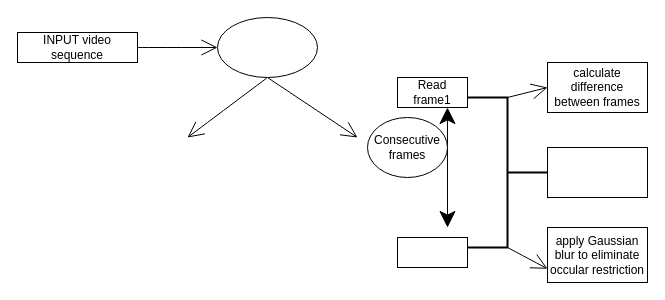
Some shapes in this 665 by 300 pixel diagram are drawn without their labels. Here are the shapes that lost their labels. From the top down, the centre of each, then its label:
point 267,47: while video is running
point 597,172: convert the sequence to grayscale
point 432,252: Read frame 2
